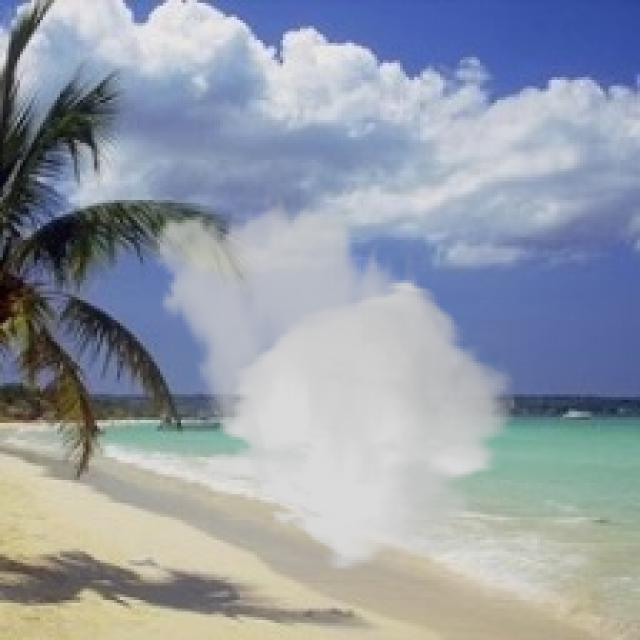Smoke: (137, 192, 514, 572)
